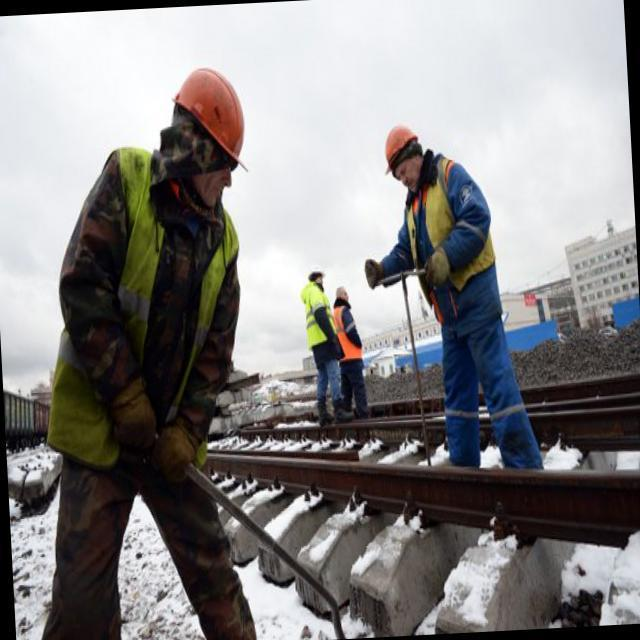person: (42, 69, 256, 640), (366, 125, 545, 472), (300, 268, 345, 425), (335, 287, 369, 418)
